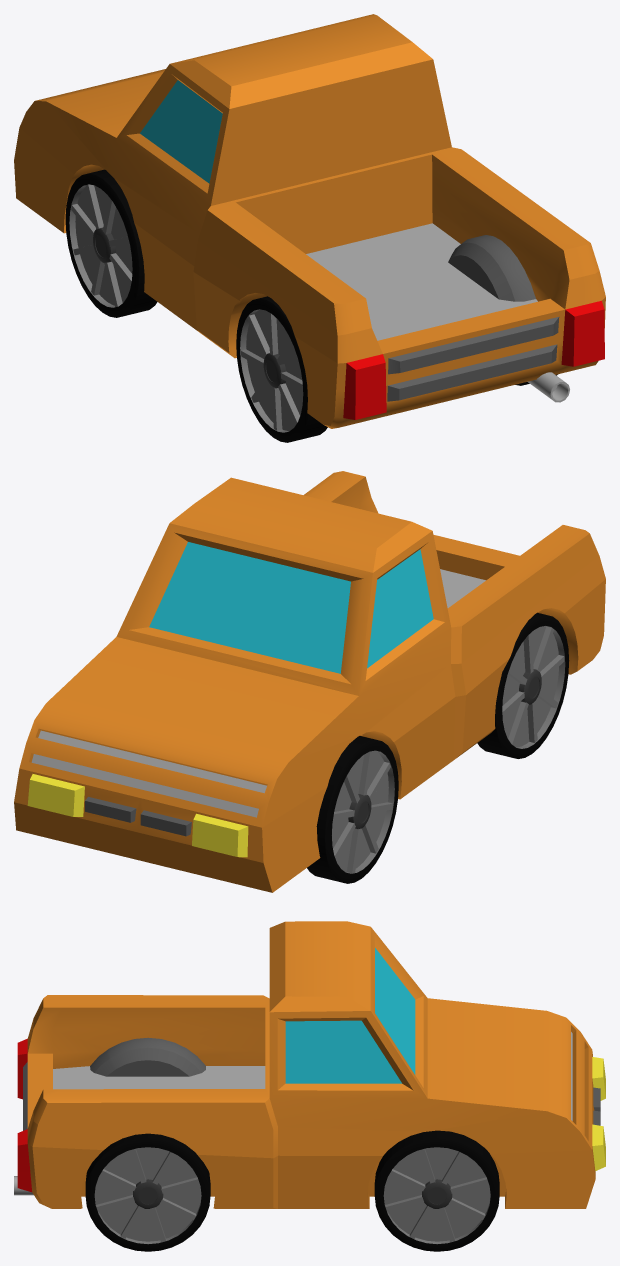
Rendered from car.fbx.
3 renders of one model, top to bottom at view 1: azimuth 30°, elevation 25°; view 2: azimuth 150°, elevation 25°; view 3: azimuth 270°, elevation 25°, orthographic. The views are drawn at different scales.
Visible parts, largest first — view 1: Car 1, wheel 3, wheel 4; view 2: Car 1, wheel 3, wheel 4; view 3: Car 1, wheel 1, wheel 2.
Part boxes in pixels (<box>): Car 1: <box>14,14,605,428</box>; wheel 3: <box>65,169,157,317</box>; wheel 4: <box>236,296,327,442</box>; Car 1: <box>14,471,605,892</box>; wheel 3: <box>307,736,398,883</box>; wheel 4: <box>477,612,569,758</box>; Car 1: <box>14,921,605,1208</box>; wheel 1: <box>374,1130,499,1251</box>; wheel 2: <box>85,1133,210,1251</box>.
Bounding box in the file's own units: 2.25 × 4.98 × 2.22.
